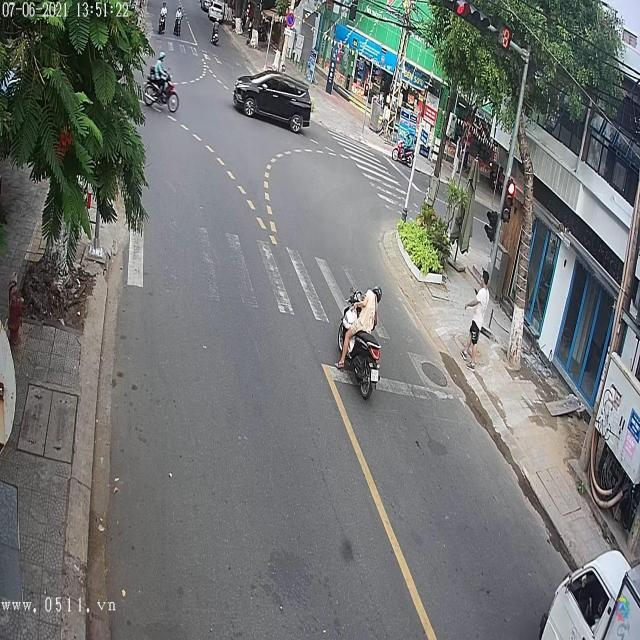car: (234, 73, 316, 137)
motorcycle: (338, 290, 382, 401), (144, 70, 179, 112), (391, 134, 414, 171)
